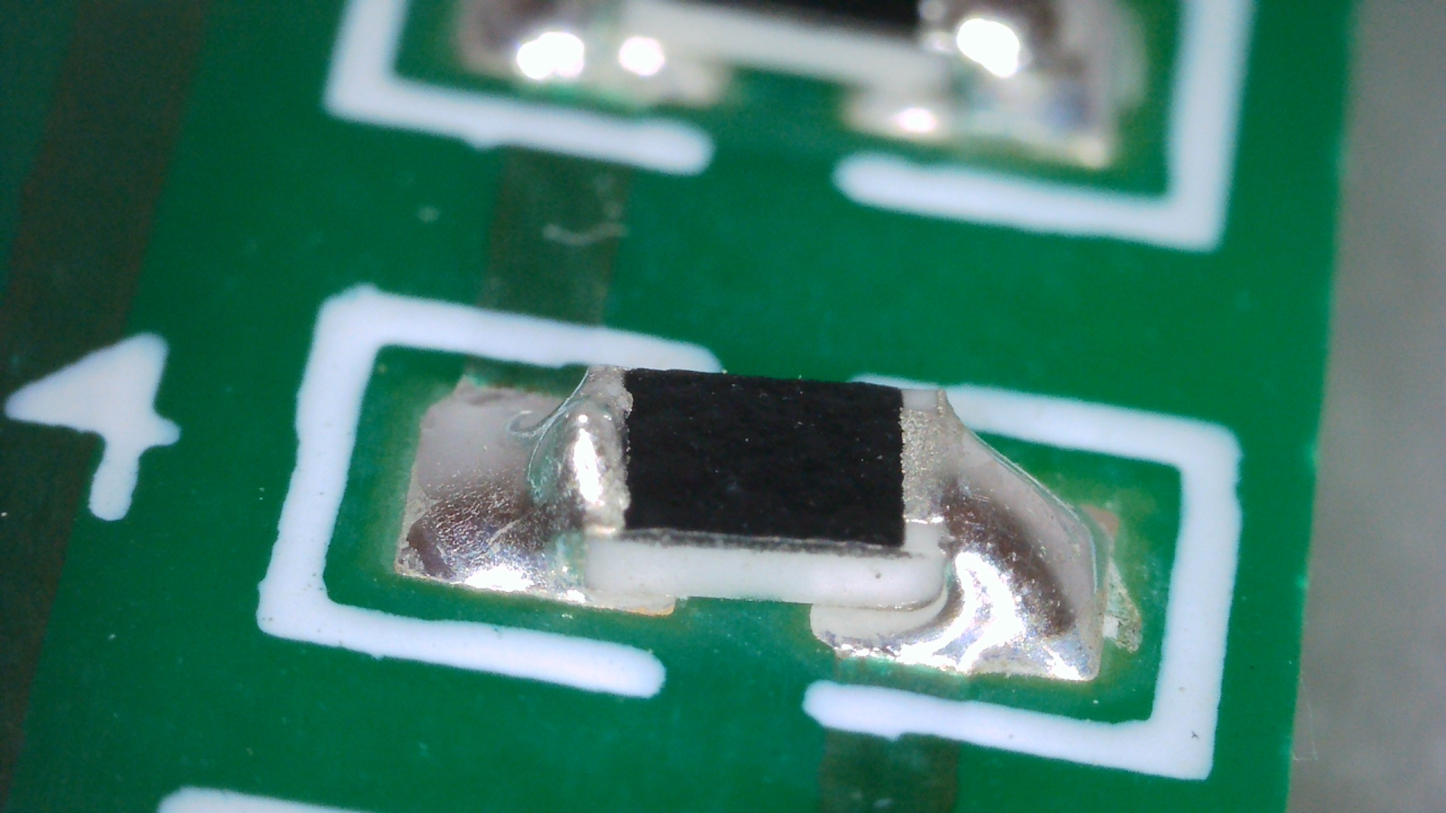NG: (812, 389, 1109, 680), (527, 400, 623, 524)
OK: (399, 366, 624, 595)
